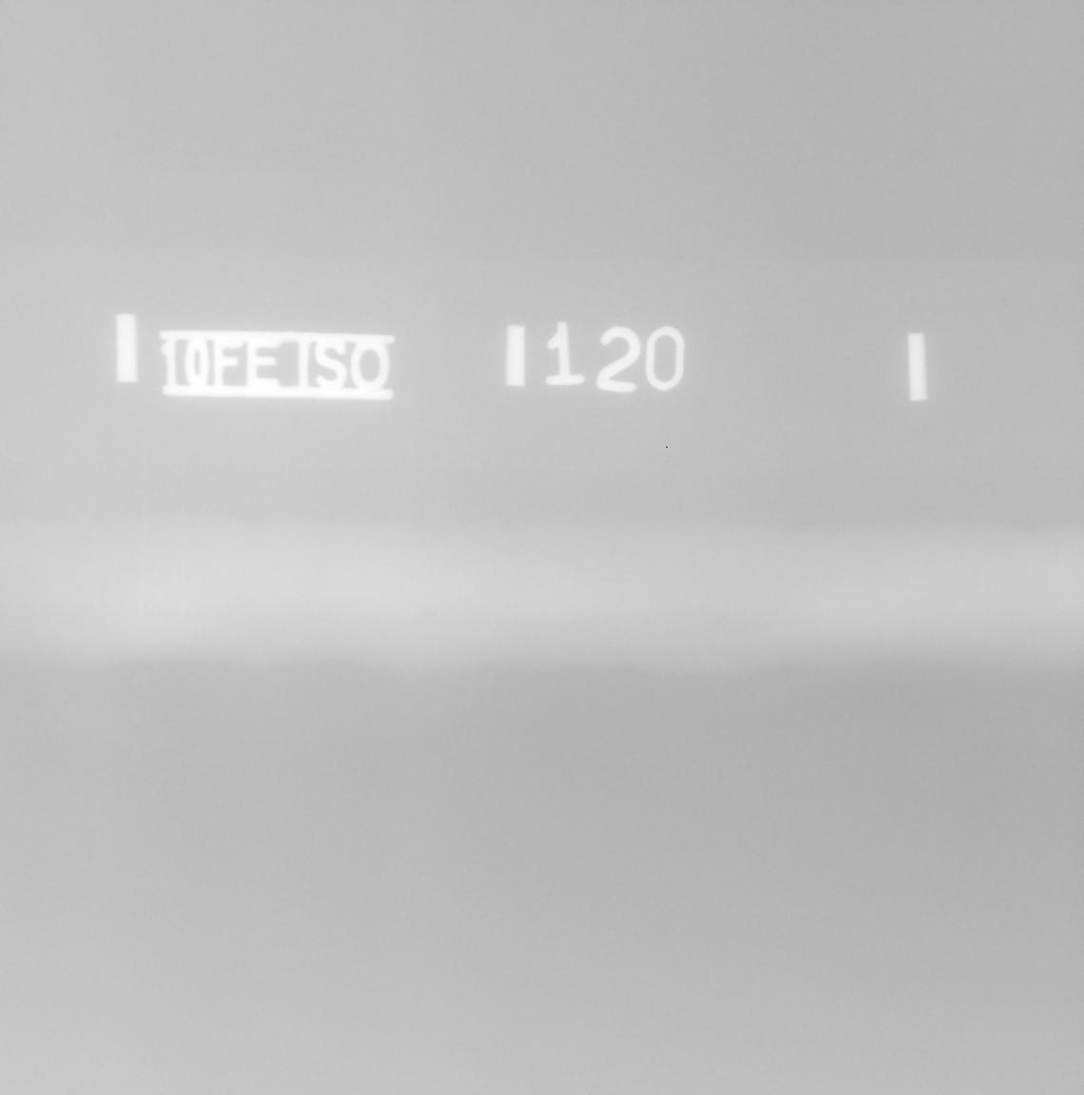Inclusion: (420, 609, 438, 618)
